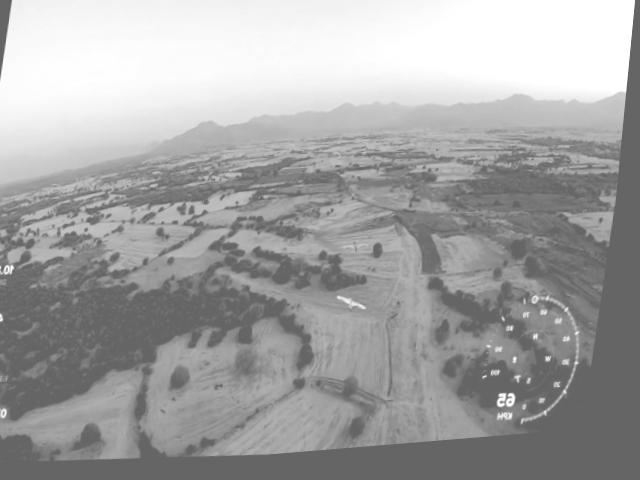hedef: (337, 293, 380, 325), (343, 242, 377, 265)
